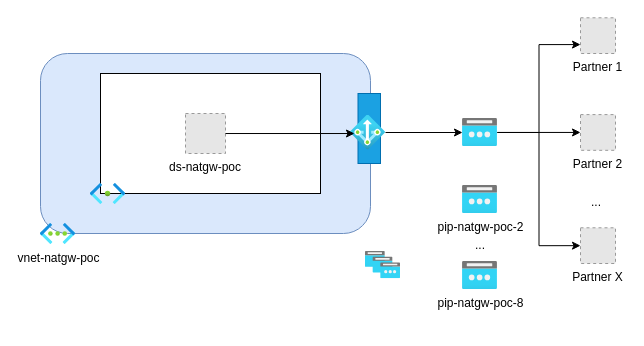
The diagram is 644 pixels wide and 346 high, and some of its shapes have lost their labels. Grey dashed boxes stand in for pictures. Here are the shapes that lost their labels. From the top down, the centre of each, then its label:
At point 367,132: "NAT Gateway".
At point 479,132: "pip-natgw-poc-1".
At point 107,193: "snet-ds".
At point 382,264: "Public IP Prefix".
